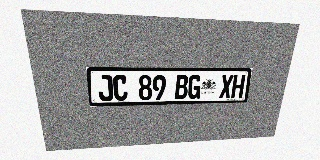8: (138, 75, 152, 100)
9: (152, 75, 166, 100)
B: (174, 75, 189, 99)
C: (112, 75, 128, 101)
G: (187, 75, 202, 99)
H: (231, 75, 245, 98)
J: (97, 75, 113, 101)
X: (219, 75, 233, 98)
